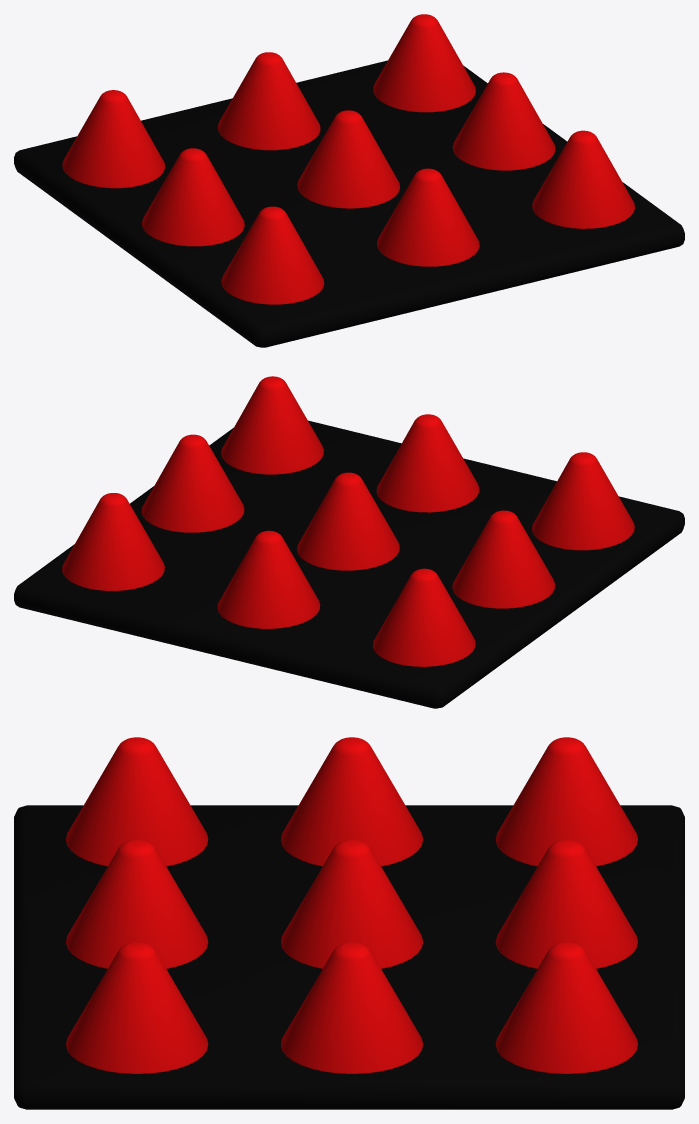
Rendered from M_9Obstackle.fbx.
3 renders of one model, top to bottom at view 1: azimuth 30°, elevation 25°; view 2: azimuth 150°, elevation 25°; view 3: azimuth 270°, elevation 25°, orthographic. The views are drawn at different scales.
Visible parts, largest first — view 1: 9obst; view 2: 9obst; view 3: 9obst.
Boxes of the visible parts, x1,y1,x2,y2 form: 9obst: (14,14,684,347); 9obst: (14,376,684,708); 9obst: (14,737,684,1109).
Size of the model in its own units: 1.8 by 0.3825 by 1.8.
